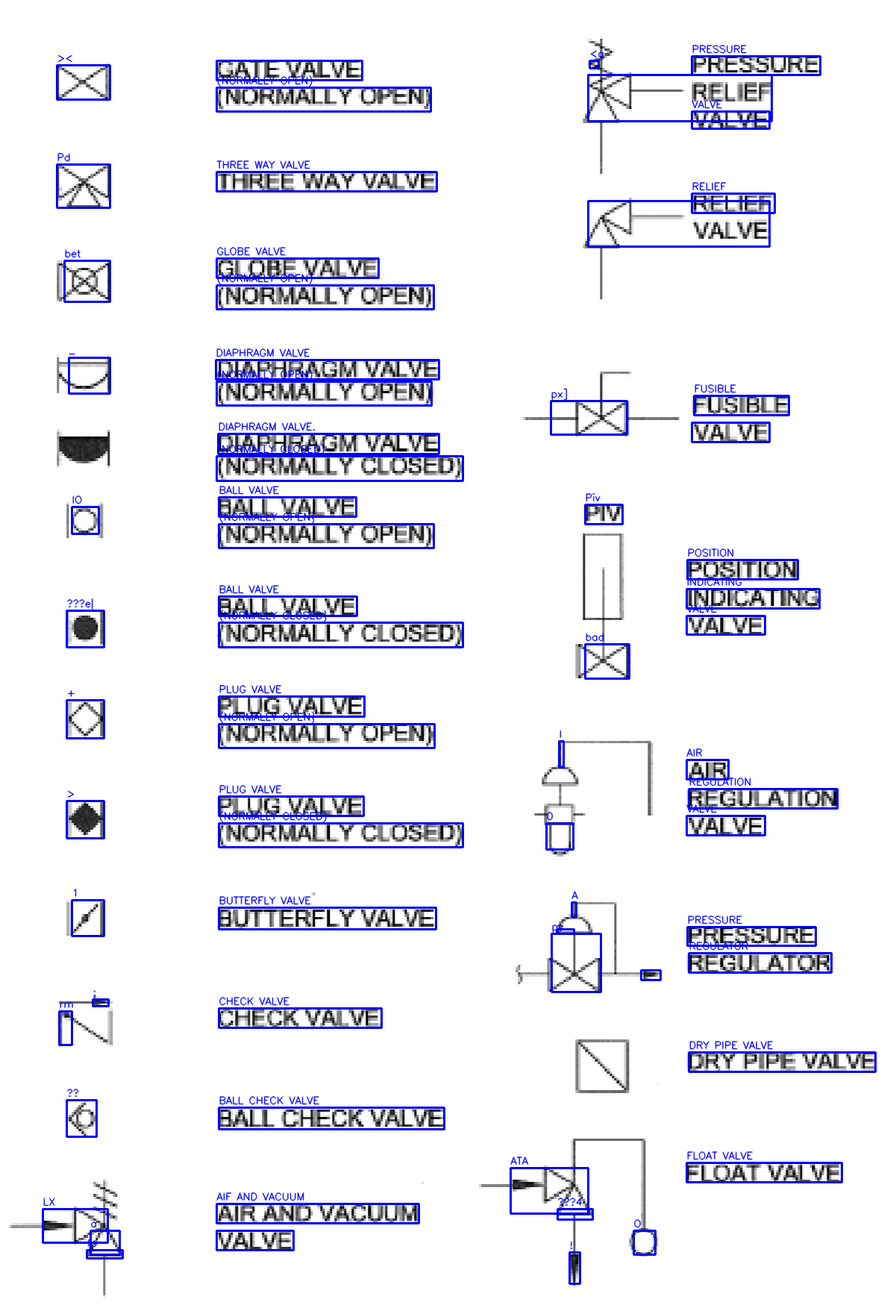Válvula: (478, 1131, 660, 1289), (513, 887, 674, 1001), (530, 731, 666, 858), (576, 31, 684, 180), (563, 500, 644, 687), (7, 1171, 122, 1298), (517, 362, 682, 442), (576, 193, 686, 305), (569, 1033, 634, 1100), (54, 992, 122, 1052), (51, 57, 116, 107), (53, 160, 115, 212), (51, 350, 116, 397), (53, 256, 116, 304), (52, 430, 115, 473), (59, 795, 109, 842), (62, 607, 109, 651), (60, 498, 106, 541), (63, 698, 108, 741), (64, 1093, 106, 1139), (64, 898, 109, 939)
